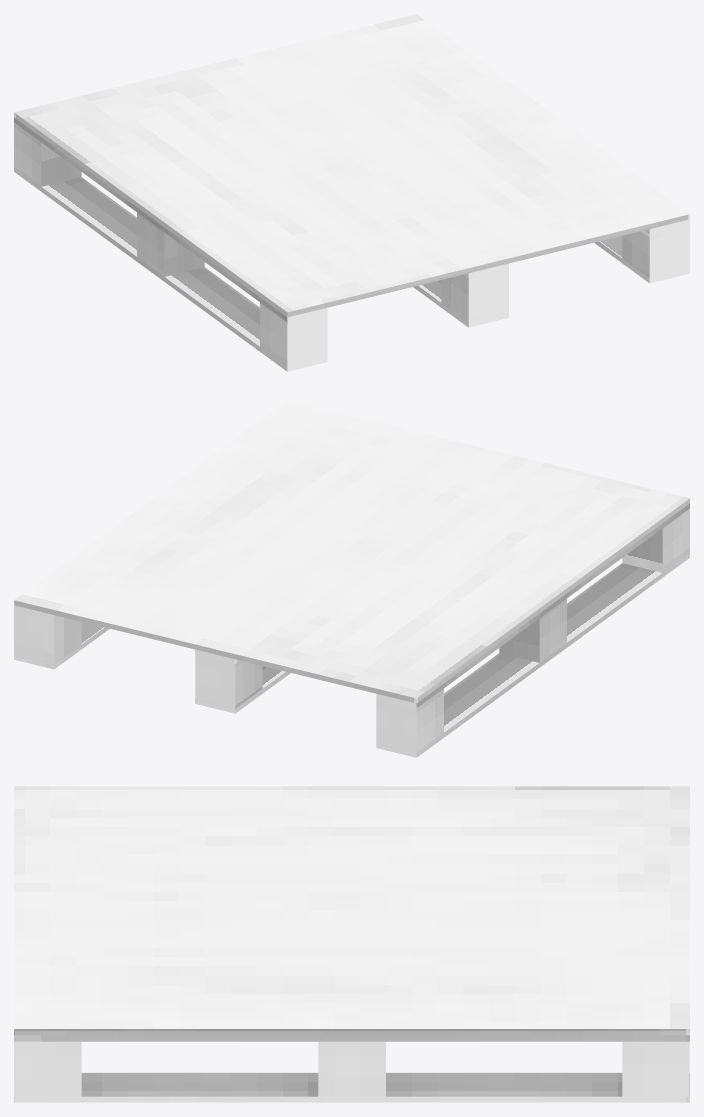
The model's file is WoodenBoardPalletUS.glb.
3 renders of one model, top to bottom at view 1: azimuth 30°, elevation 25°; view 2: azimuth 150°, elevation 25°; view 3: azimuth 270°, elevation 25°, orthographic. The views are drawn at different scales.
Visible parts, largest first — view 1: WoodenBoardPalletUS; view 2: WoodenBoardPalletUS; view 3: WoodenBoardPalletUS.
Part boxes in pixels (x1,y1,x2,y2): WoodenBoardPalletUS: (14,14,689,371); WoodenBoardPalletUS: (14,400,689,757); WoodenBoardPalletUS: (14,786,689,1102).
Bounding box in the file's own units: 1.02 × 0.1441 × 1.2.
Materials: 1 (1 with a texture image).
